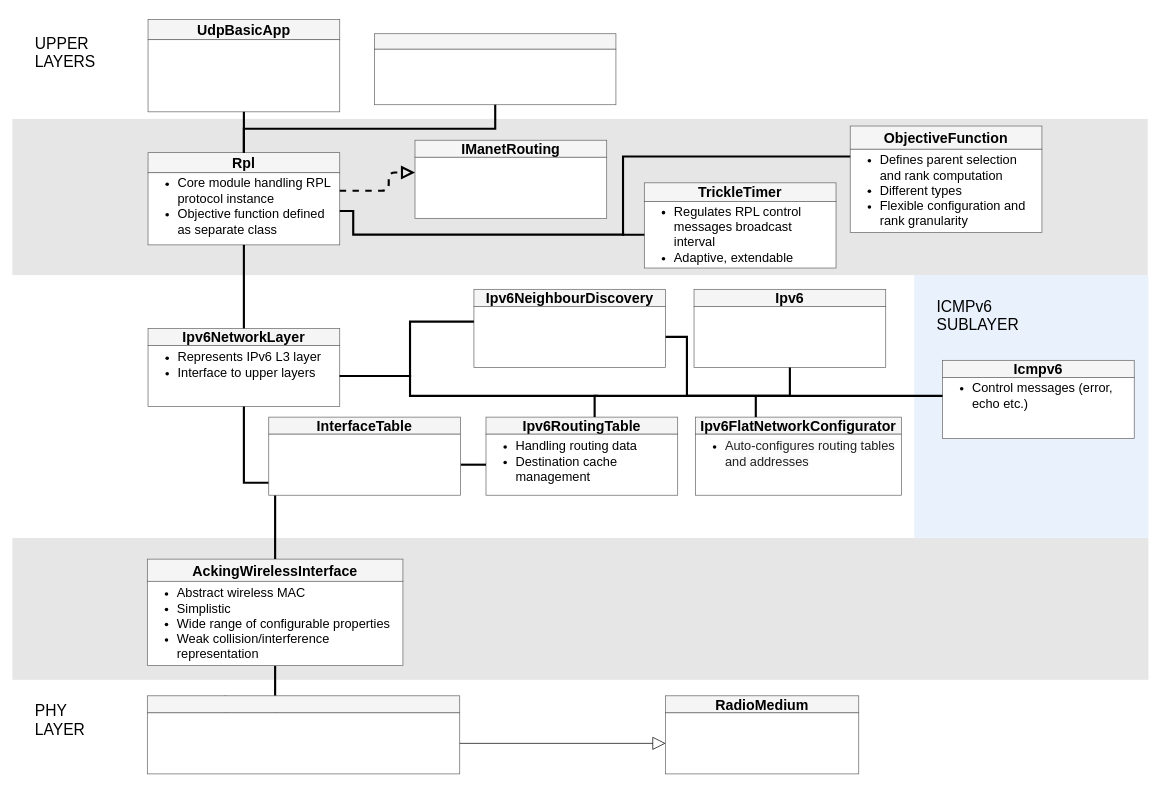
Some shapes in this 1160 by 798 pixel diagram are drawn without their labels. The box of each missing label's shape, as (x1, y1, x2, y2) in pixels:
Abstract interface for MANET routing protocols (AODV, DYMO etc.): (414, 157, 607, 218)
Client-Server communication Configurable Wide range of applications: (147, 39, 340, 112)
Core IPv6 functionality Default for RPL: (693, 306, 886, 367)
INET 4.2 medium: (665, 712, 859, 774)
INET 4.2 Simple radio model Fast and predictable: (147, 712, 460, 774)
Interface management Protocol-agnostic: (268, 433, 460, 495)
IPv6 LAYER: (12, 275, 1148, 537)
MAC LAYER: (12, 537, 1148, 679)
Neighbour discovery Unreachability detection: (473, 306, 666, 367)
PingApp: (374, 33, 616, 49)
ROUTING LAYER: (12, 119, 1147, 275)
Send ping requests to any node Simple topology testing, monitoring: (374, 48, 616, 105)
UnitDiskRadioMedium: (147, 695, 460, 713)
